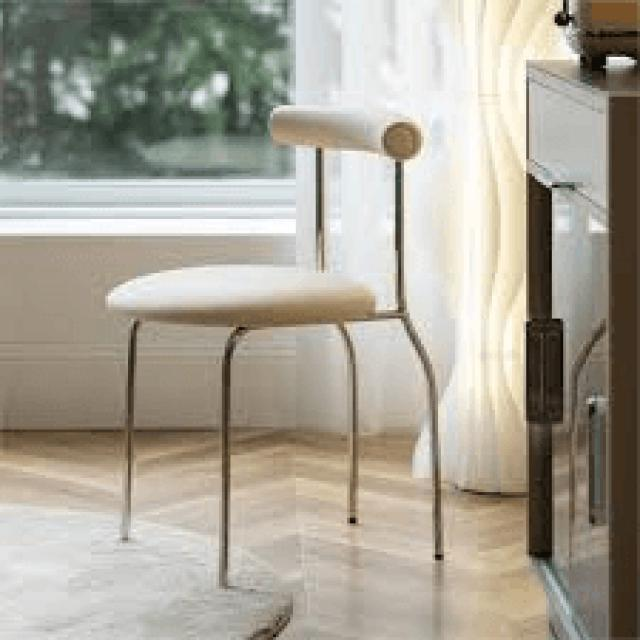chair: (103, 99, 450, 592), (121, 98, 427, 324)
